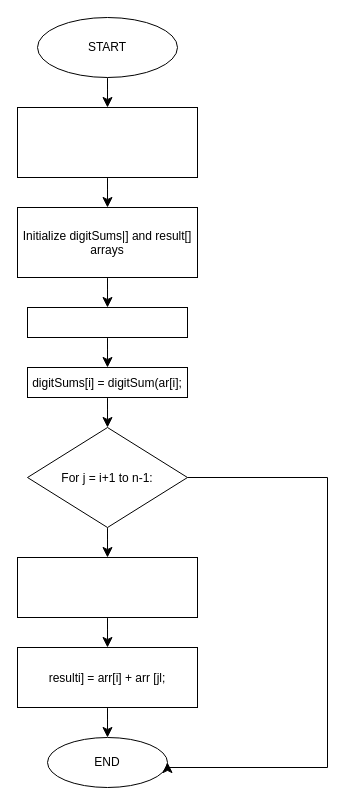
This 355x805 diagram has some shape labels left out. The box of each missing label's shape, as (x1, y1, x2, y2) in pixels:
For i = 0 to n-1:: (26, 306, 188, 338)
If digitSums[i] == digitSumslj: (16, 556, 198, 618)
Initialize array arr = [12, 4, 234, 13, 111,8 2]: (16, 106, 198, 178)
